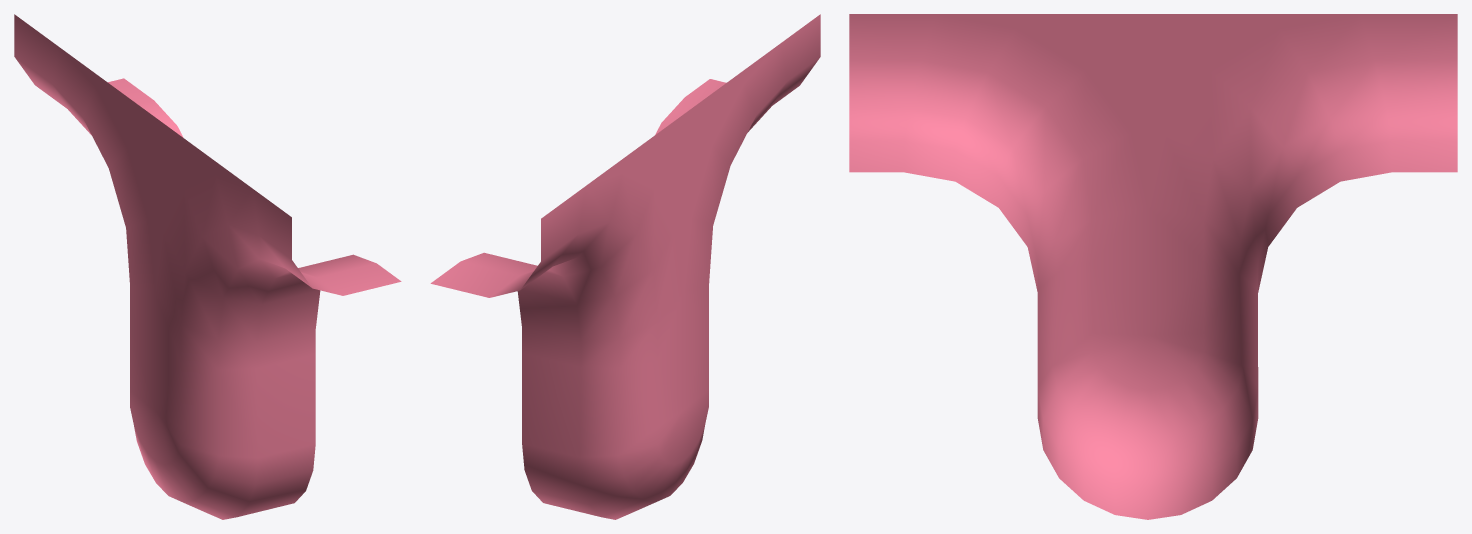
Rendered from SM_M_drop_4.fbx.
The picture shows the model from 3 angles, left to right: view 1: azimuth 30°, elevation 25°; view 2: azimuth 150°, elevation 25°; view 3: azimuth 270°, elevation 25°; orthographic projection. The views are drawn at different scales.
Parts seen in each view (by area): view 1: SM_M_drop_4; view 2: SM_M_drop_4; view 3: SM_M_drop_4.
Boxes of the visible parts, bbox=[...] form: SM_M_drop_4: bbox=[14, 14, 401, 519]; SM_M_drop_4: bbox=[430, 14, 820, 519]; SM_M_drop_4: bbox=[849, 14, 1457, 519].
Size of the model in its own units: 164 by 584 by 719.
Materials: 1 (1 with a texture image).
